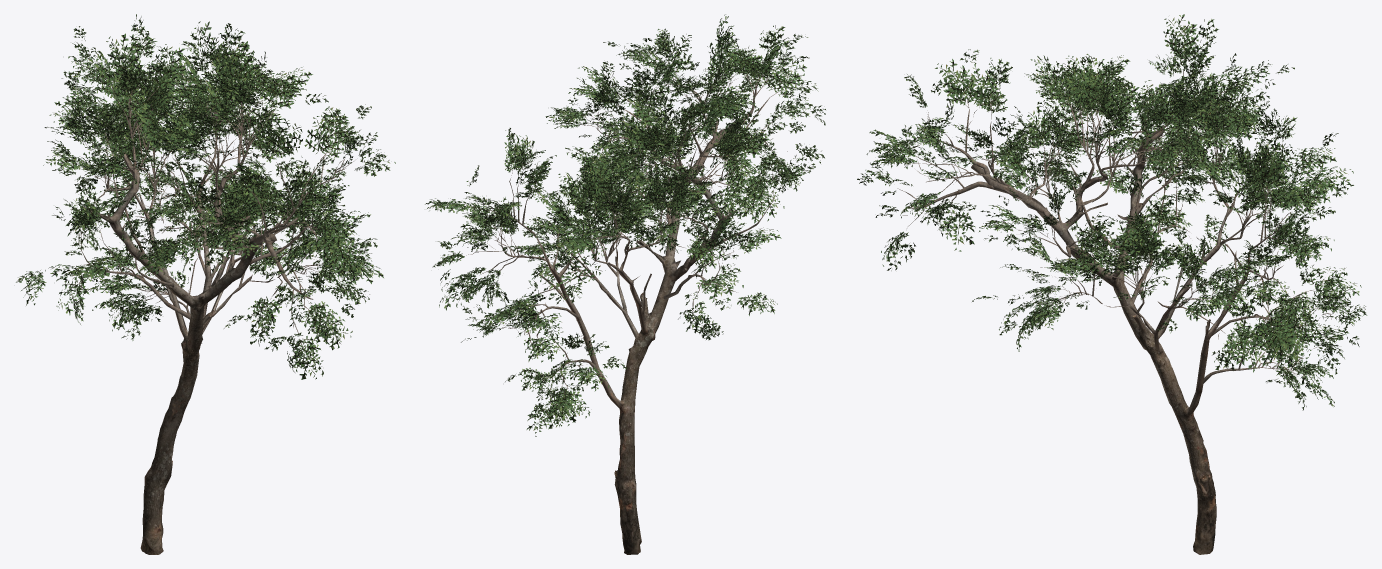
The model's file is tree_small_02.glb.
3 views of the same model, side by side, from view 1: azimuth 30°, elevation 25°; view 2: azimuth 150°, elevation 25°; view 3: azimuth 270°, elevation 25° (orthographic). The views are drawn at different scales.
Parts seen in each view (by area): view 1: tree_small_02_LOD0; view 2: tree_small_02_LOD0; view 3: tree_small_02_LOD0.
Boxes of the visible parts, left/top/right/bottom form: tree_small_02_LOD0: left=16, top=14, right=395, bottom=554; tree_small_02_LOD0: left=425, top=14, right=825, bottom=554; tree_small_02_LOD0: left=857, top=14, right=1367, bottom=554.
Bounding box in the file's own units: 2.91 × 4.55 × 4.24.
3 materials, 3 textured.
